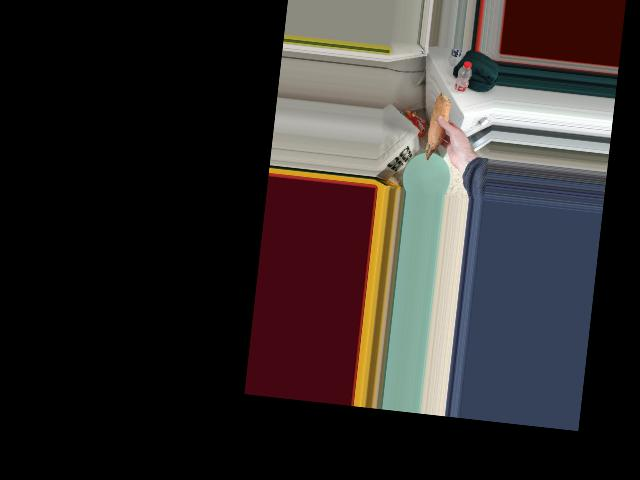sweet_potato: (424, 96, 450, 164)
